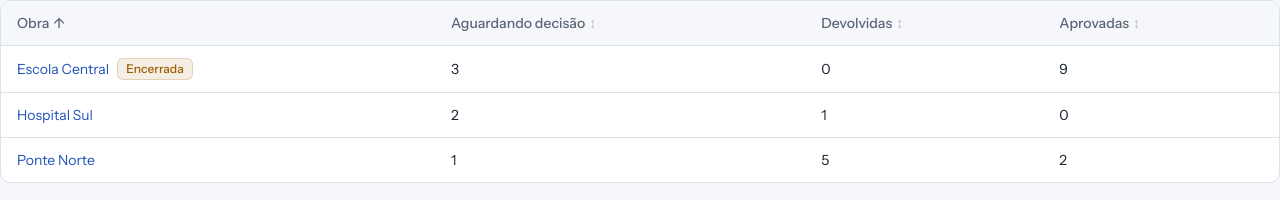
Test: SitesSummaryTable › toggles name direction and sorts by each count
The image size is (1280, 200).
Click the button "Obra ↑" at (41, 23), box [17,13,64,33]
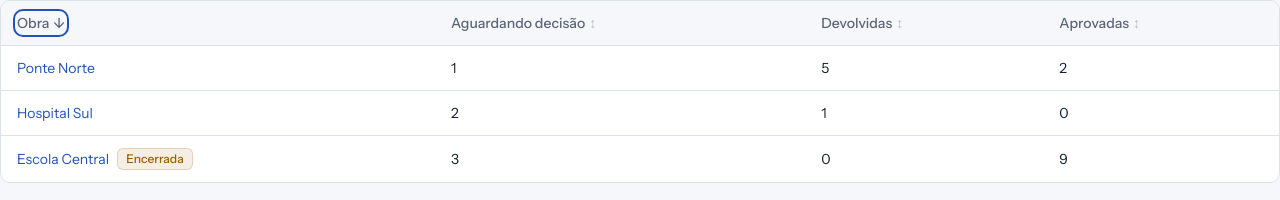
Result: the link "Ponte Norte" is shown at [17,58,95,78]
Click the button "Aguardando decisão ↕" at (524, 23), box [451,13,596,33]
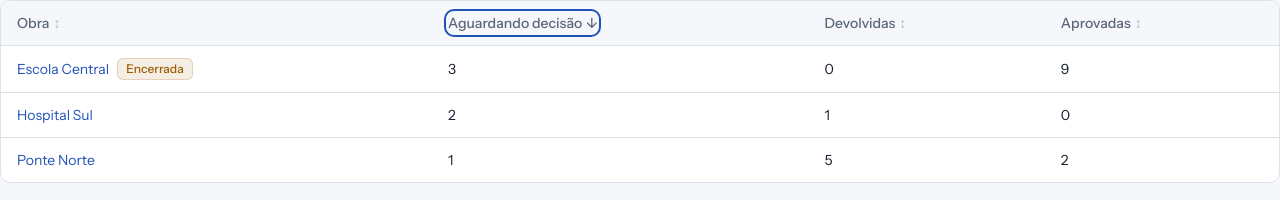
Result: the column heading "Aguardando decisão ↓" has attribute aria-sort="descending" at [432,1,808,46]
Click the button "Devolvidas ↕" at (865, 23), box [824,13,906,33]
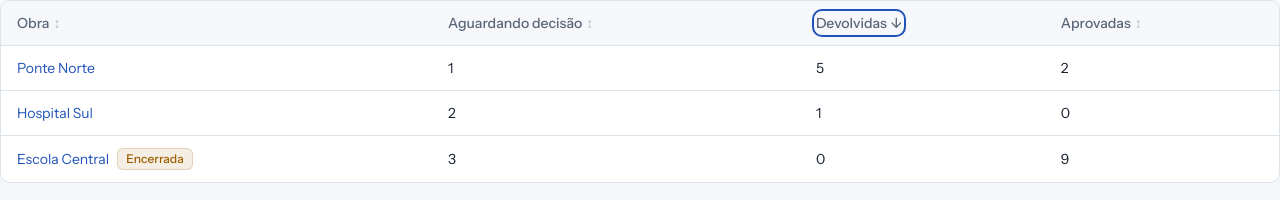
Result: the link "Ponte Norte" is shown at [17,58,95,78]
Click the button "Aprovadas ↕" at (1101, 23), box [1061,13,1142,33]
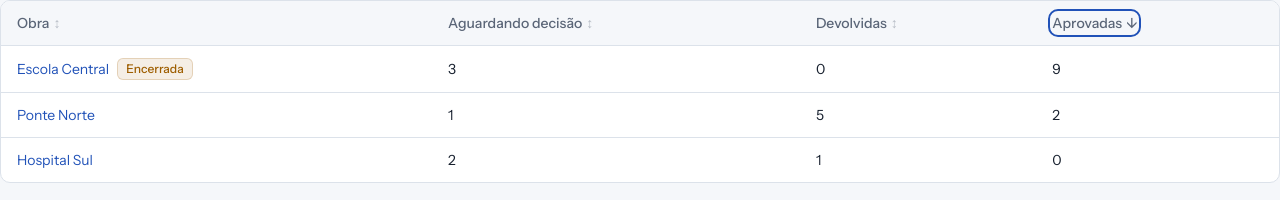
Click the button "Aprovadas ↓" at (1095, 23), box [1052,13,1137,33]
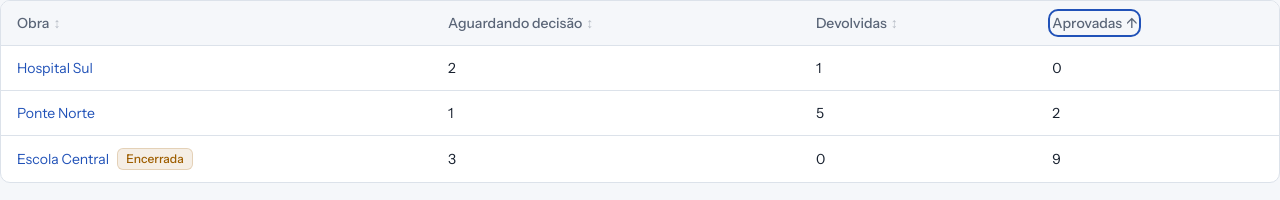
Result: the link "Hospital Sul" is shown at [17,58,93,78]
